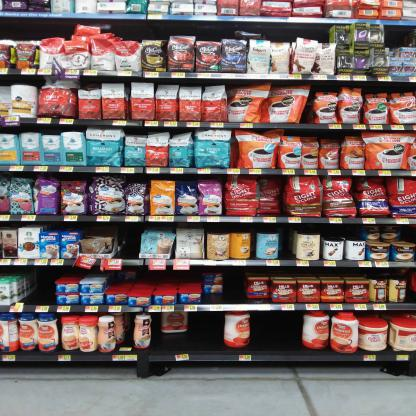Void: (251, 315, 301, 352), (192, 317, 221, 350), (26, 274, 56, 304), (118, 227, 138, 258), (142, 274, 194, 285), (229, 272, 245, 304), (390, 30, 410, 43), (282, 235, 292, 260)
